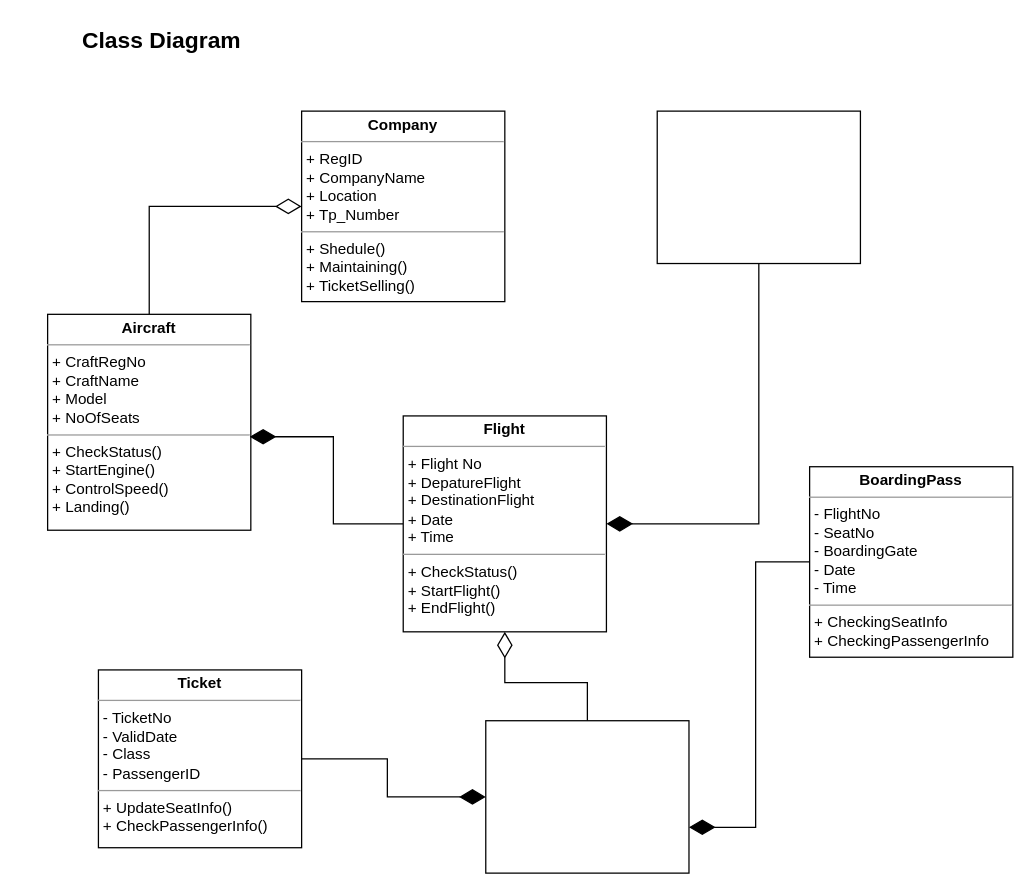
Some shapes in this 1035 by 895 pixel diagram are drawn without their labels. Each missing label, with the centre of its shape:
"Passenger - SeatNo - AvailableSeat - FlightNo + UpdateSeatInfo() + BookingSeat()" goes at point 587,796.
"Seat - SeatNo - AvailableSeat - FlightNo + UpdateSeatInfo() + BookingSeat()" goes at point 758,187.
